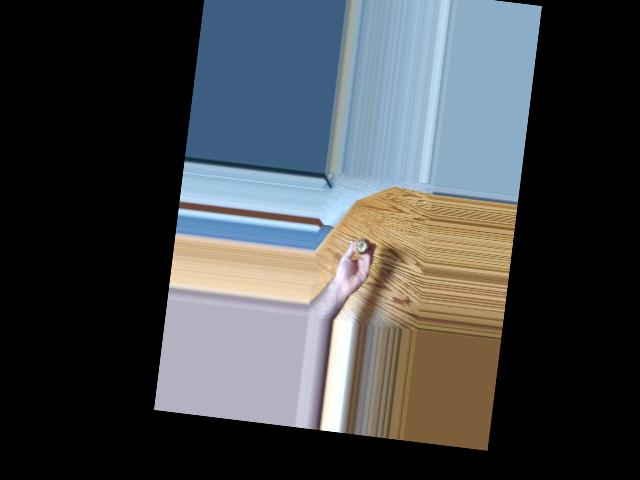sweet_potato: (350, 232, 369, 255)
